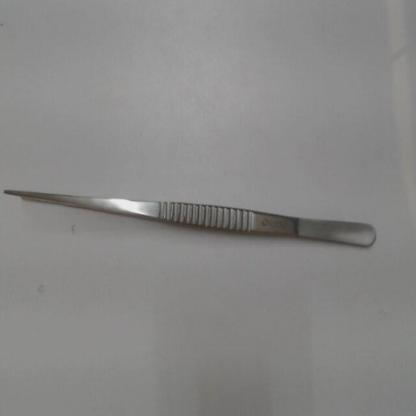DeBakey Dissector: (3, 177, 390, 259)
